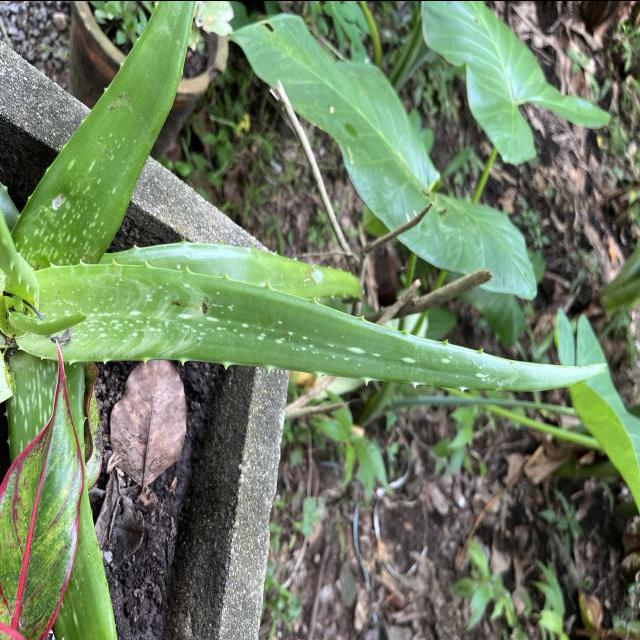Aloe vera: (22, 254, 611, 396)
